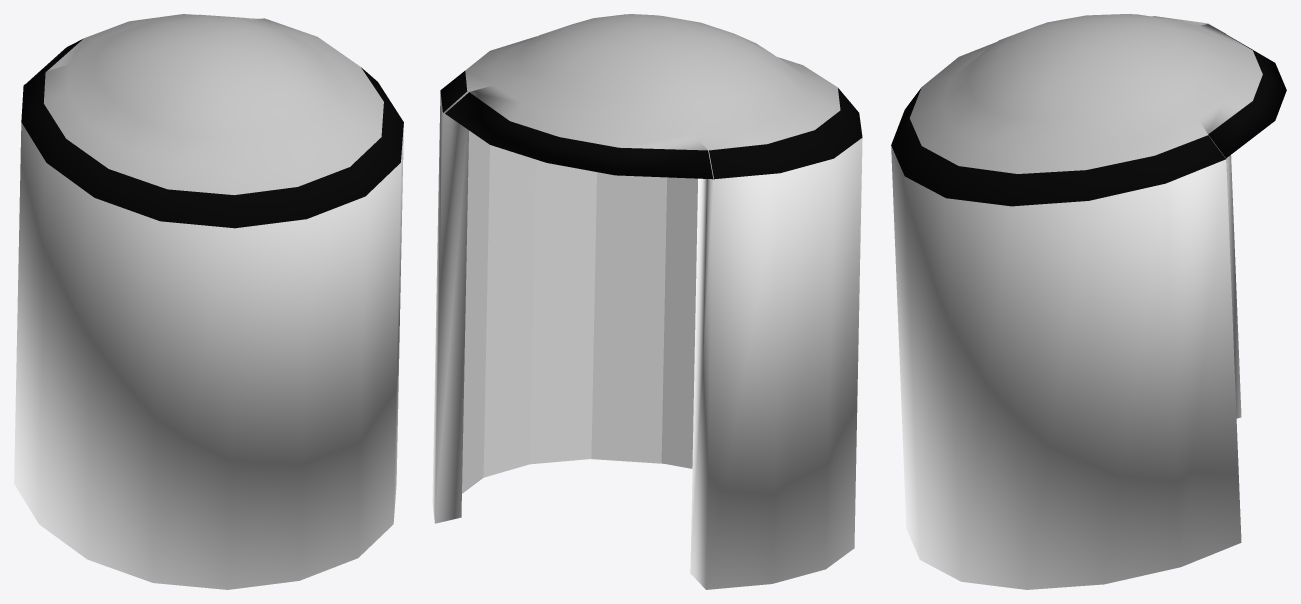
Rendered from ExecutionerHat.glb.
3 views of the same model, side by side, from view 1: azimuth 30°, elevation 25°; view 2: azimuth 150°, elevation 25°; view 3: azimuth 270°, elevation 25° (orthographic). The views are drawn at different scales.
Visible parts, largest first — view 1: head; view 2: head; view 3: head.
Boxes of the visible parts, x1,y1,x2,y2 form: head: (14, 14, 403, 589); head: (432, 14, 862, 589); head: (891, 14, 1286, 589).
Bounding box in the file's own units: 0.3165 × 0.4303 × 0.3131.
1 material, 1 textured.
